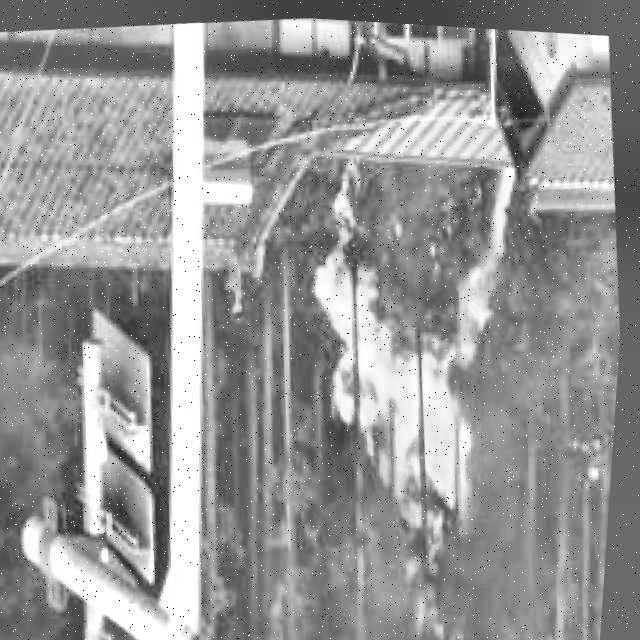Fire: (301, 146, 560, 640)
